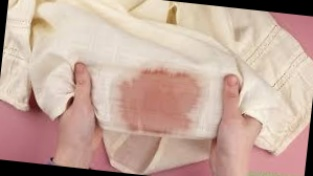wine: (120, 66, 206, 138)
